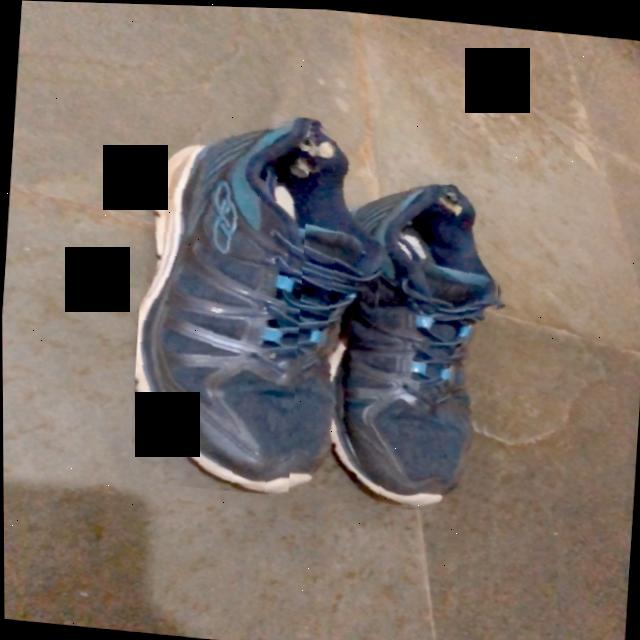shoe: (134, 124, 371, 491), (304, 181, 498, 506)
